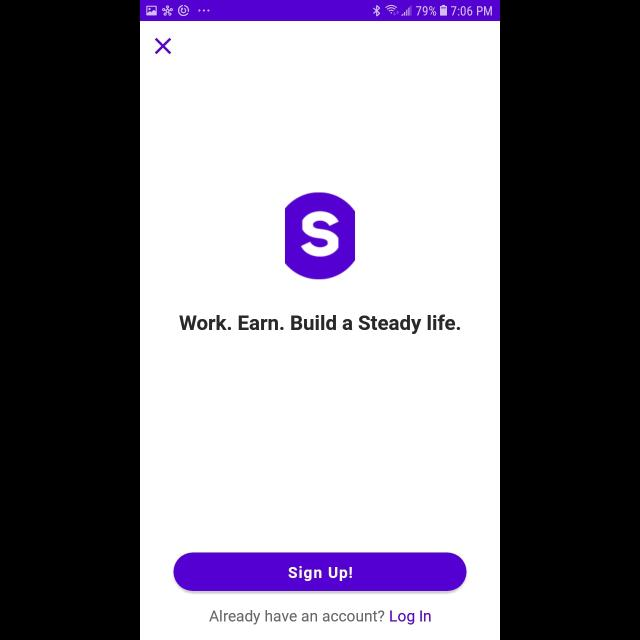icon: (156, 37, 172, 54)
image: (285, 192, 355, 280)
text: (180, 314, 460, 334), (209, 610, 385, 624), (391, 610, 432, 626)
textbutton: (174, 552, 466, 592)
uppertaskbar: (140, 1, 500, 22)
